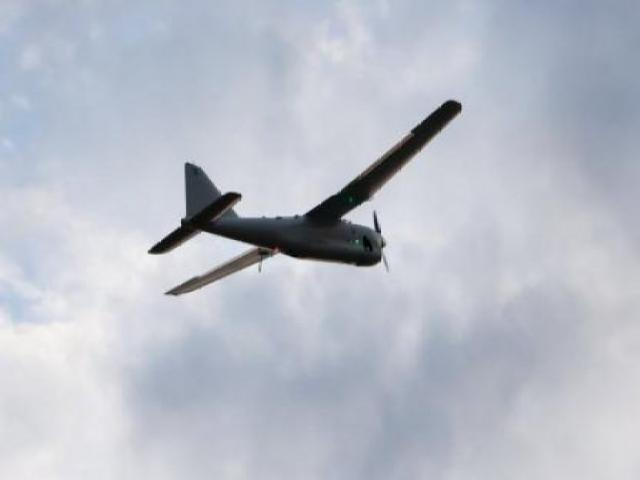uav: (140, 92, 466, 308)
